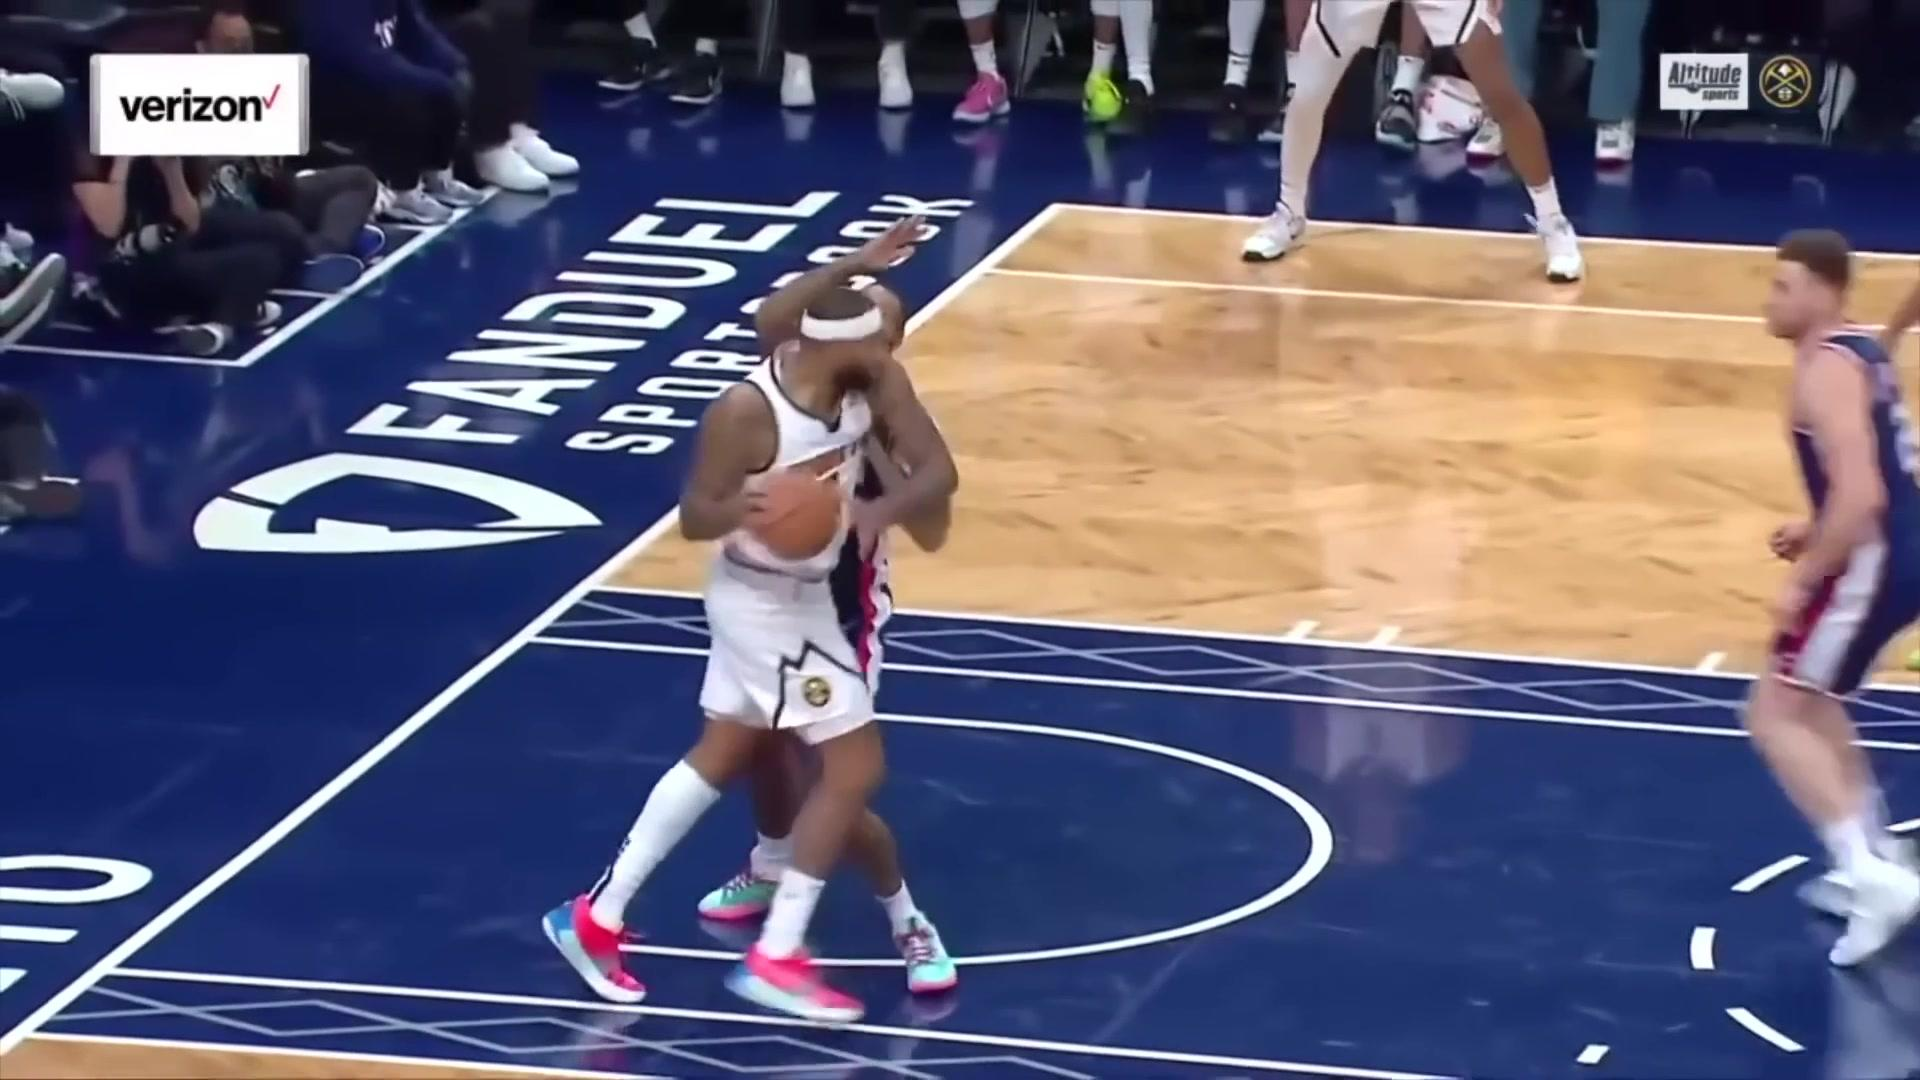foul: (588, 232, 986, 1005)
